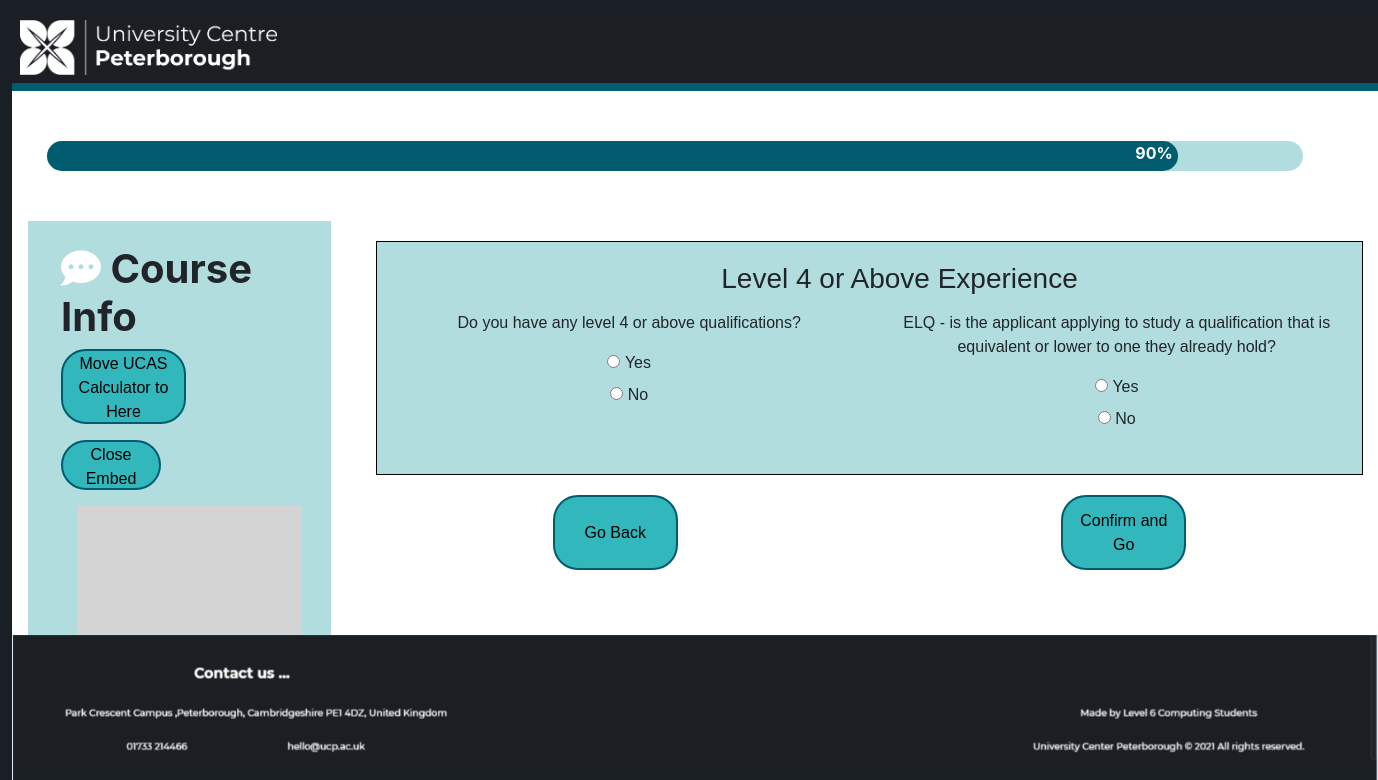
Level 4 Qualification Conditional rendering
Expected: the text "Enter qualification name and grade:" is not shown
Click the radio button with test id "prior-yes".
click(614, 362)  # box [607,356,620,368]
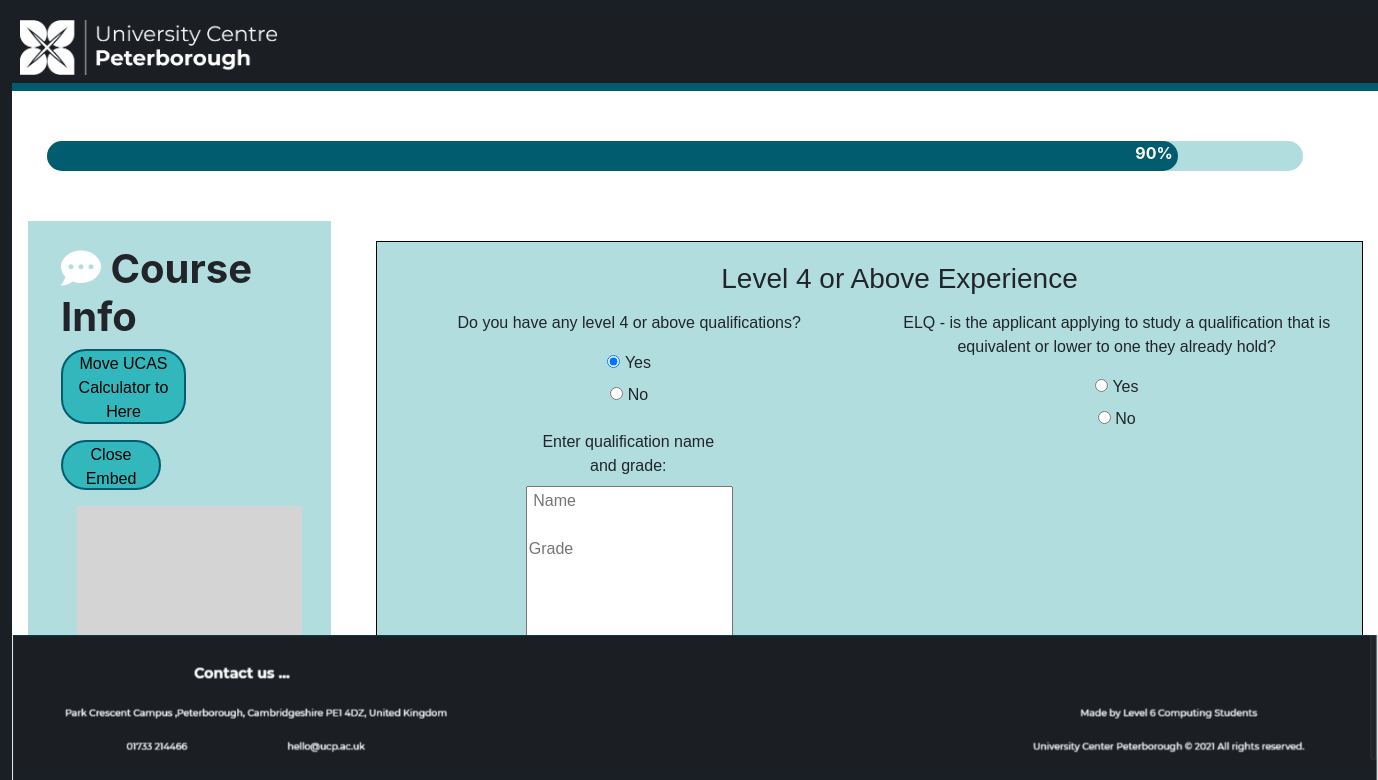
Result: the text "Enter qualification name and grade:" is shown at [531,430,726,478]
Click the radio button with test id "prior-no".
click(617, 394)  # box [610,388,623,400]
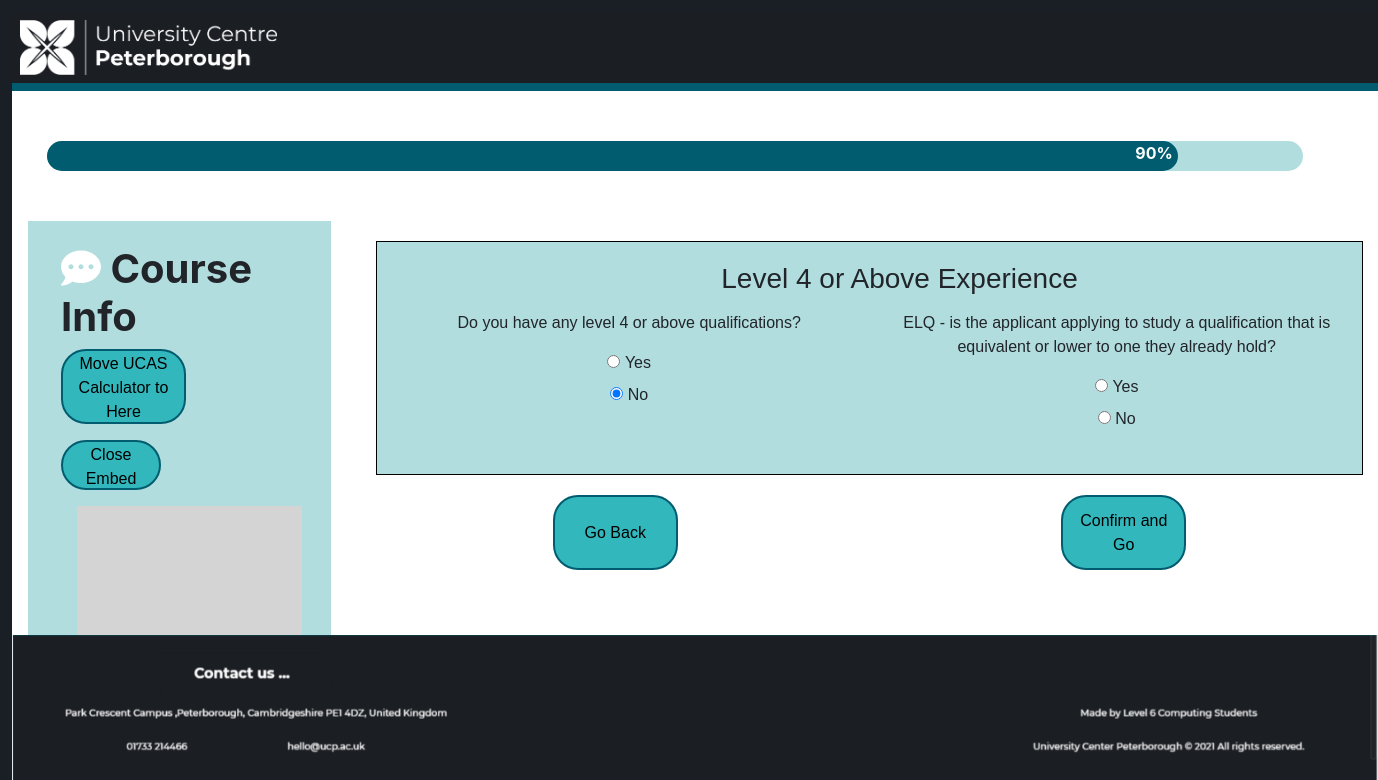
Result: the text "Enter qualification name and grade:" is gone
